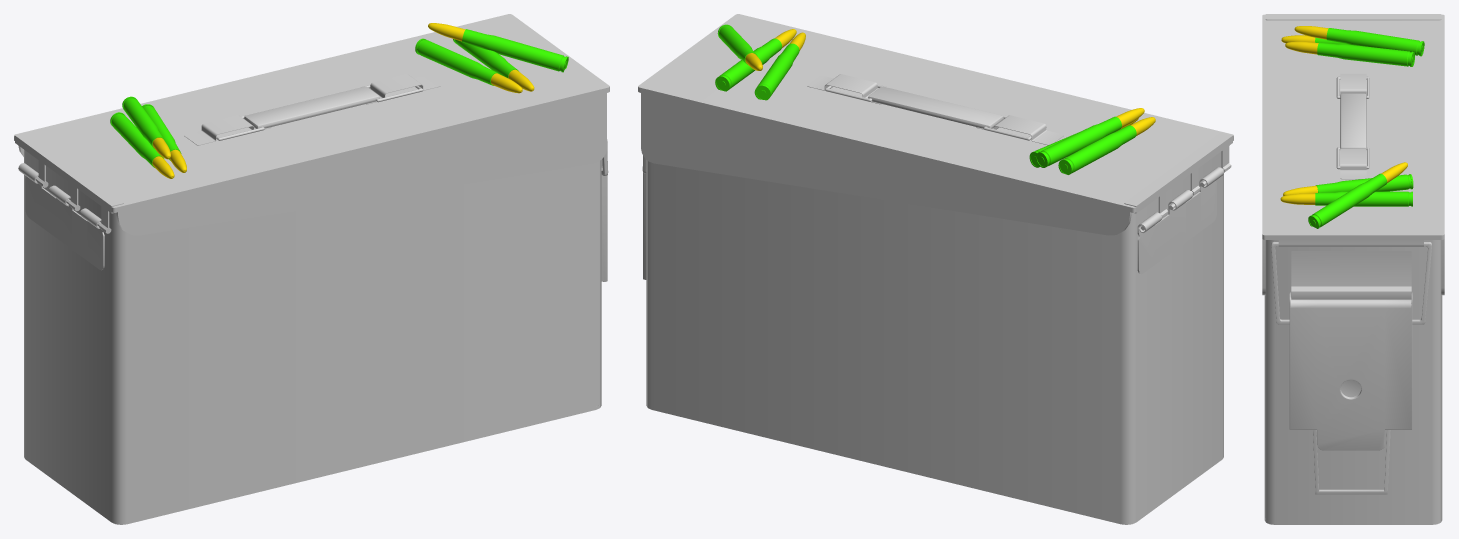
The model's file is ammo_box_w_bullets.fbx.
3 views of the same model, side by side, from view 1: azimuth 30°, elevation 25°; view 2: azimuth 150°, elevation 25°; view 3: azimuth 270°, elevation 25° (orthographic). The views are drawn at different scales.
Parts seen in each view (by area): view 1: ammo_box, 762_bullet.002, 762_bullet.001, 762_bullet.004, 762_bullet.005, 762_bullet, 762_bullet.003; view 2: ammo_box, 762_bullet.005, 762_bullet.004, 762_bullet, 762_bullet.001, 762_bullet.002; view 3: ammo_box, 762_bullet.003, 762_bullet.005, 762_bullet.002, 762_bullet, 762_bullet.001, 762_bullet.004.
Boxes of the visible parts, x1,y1,x2,y2 form: ammo_box: [14, 14, 609, 524]; 762_bullet.002: [428, 23, 568, 72]; 762_bullet.001: [415, 38, 522, 93]; 762_bullet.004: [110, 112, 174, 178]; 762_bullet.005: [122, 96, 170, 159]; 762_bullet: [453, 39, 534, 91]; 762_bullet.003: [142, 104, 186, 172]; ammo_box: [638, 14, 1233, 524]; 762_bullet.005: [1035, 108, 1144, 167]; 762_bullet.004: [1058, 117, 1155, 174]; 762_bullet: [715, 29, 796, 91]; 762_bullet.001: [754, 32, 805, 100]; 762_bullet.002: [717, 24, 762, 70]; ammo_box: [1262, 14, 1444, 524]; 762_bullet.003: [1285, 41, 1414, 66]; 762_bullet.005: [1294, 26, 1424, 56]; 762_bullet.002: [1308, 162, 1407, 228]; 762_bullet: [1280, 191, 1412, 206]; 762_bullet.001: [1283, 174, 1413, 195]; 762_bullet.004: [1281, 35, 1348, 44].
Size of the model in its own units: 27.28 by 17.89 by 9.25.
